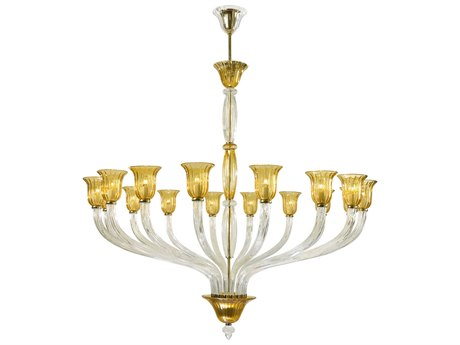chandelier: (78, 3, 385, 338)
